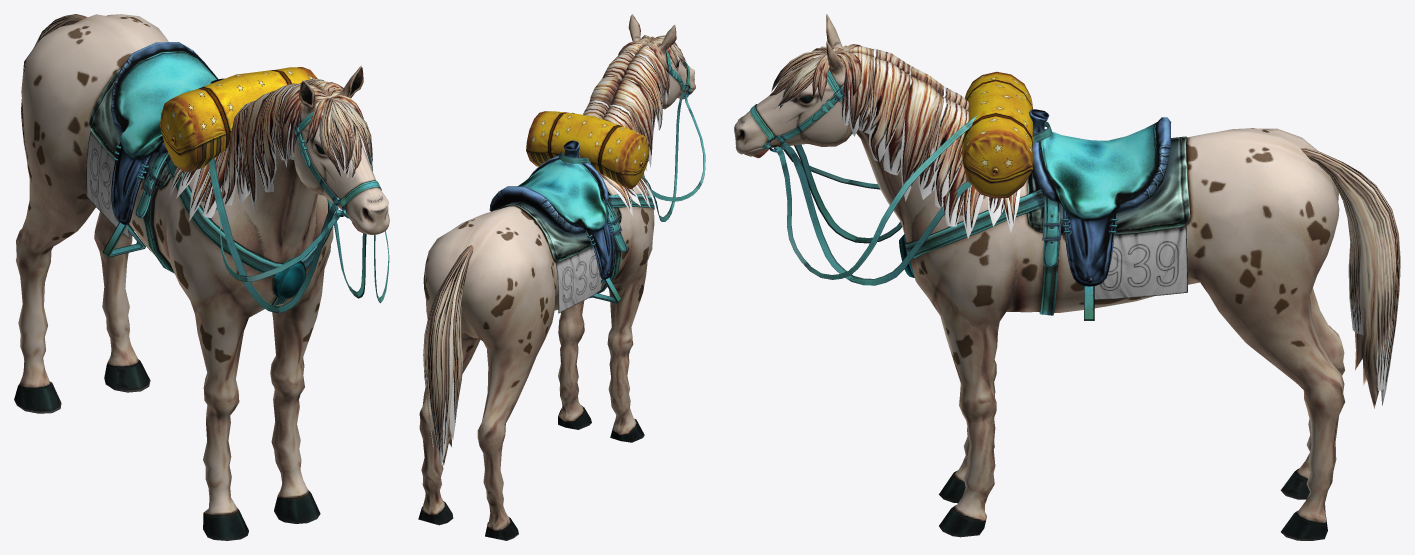
The model's file is slow_dancer_jojo_steel_ball_run.glb.
The picture shows the model from 3 angles, left to right: view 1: azimuth 30°, elevation 25°; view 2: azimuth 150°, elevation 25°; view 3: azimuth 270°, elevation 25°; orthographic projection. The views are drawn at different scales.
Parts seen in each view (by area): view 1: Object_3, Object_4, Object_5; view 2: Object_3, Object_4, Object_5; view 3: Object_3, Object_4, Object_5.
Part boxes in pixels (x1,y1,x2,y2): Object_3: (14, 14, 389, 540); Object_4: (86, 42, 389, 313); Object_5: (103, 123, 344, 257); Object_3: (418, 14, 695, 540); Object_4: (489, 50, 705, 313); Object_5: (587, 64, 690, 303); Object_3: (734, 14, 1400, 540); Object_4: (750, 69, 1190, 315); Object_5: (767, 87, 1118, 320).
Size of the model in its own units: 0.8138 by 2.16 by 2.69.
Materials: 4 (4 with a texture image).
